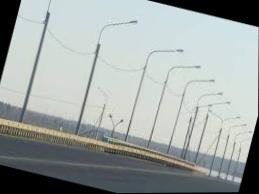Animal: (62, 0, 141, 150), (10, 0, 86, 137), (119, 29, 179, 155), (142, 46, 204, 164), (165, 67, 214, 160)
